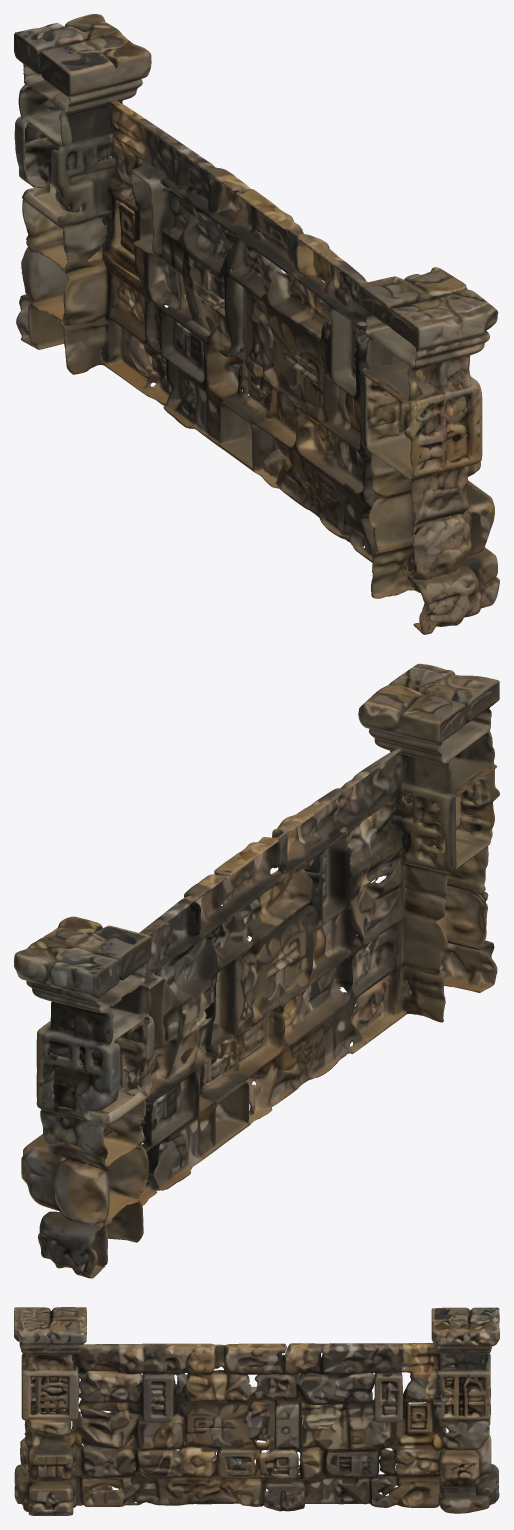
File: arch_wall_vaelor.glb
3 renders of one model, top to bottom at view 1: azimuth 30°, elevation 25°; view 2: azimuth 150°, elevation 25°; view 3: azimuth 270°, elevation 25°, orthographic. The views are drawn at different scales.
Visible parts, largest first — view 1: tripo_node_d9f77c95-5727-4263-9154-96b5edb6edef; view 2: tripo_node_d9f77c95-5727-4263-9154-96b5edb6edef; view 3: tripo_node_d9f77c95-5727-4263-9154-96b5edb6edef.
Part boxes in pixels (x1=…): tripo_node_d9f77c95-5727-4263-9154-96b5edb6edef: x1=14, y1=14, x2=499, y2=634; tripo_node_d9f77c95-5727-4263-9154-96b5edb6edef: x1=14, y1=663, x2=499, y2=1278; tripo_node_d9f77c95-5727-4263-9154-96b5edb6edef: x1=14, y1=1307, x2=499, y2=1515.
Size of the model in its own units: 0.1494 by 0.4219 by 1.
Materials: 1 (1 with a texture image).
